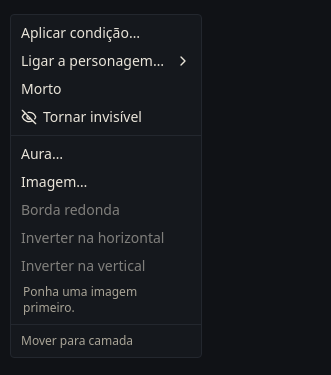
Test: the character on a token › the master has "Ligar a personagem…" on a free token, one item per character of the table
Click the menu item "Ligar a personagem…" at (106, 61), box [15,47,197,75]
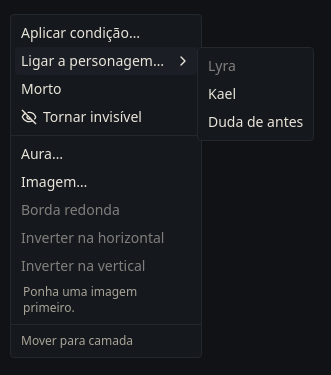
expect the menu item "Kael" is shown: met, box [208,84,236,103]
expect the menu item "Duda de antes" is shown: met, box [202,108,309,136]
